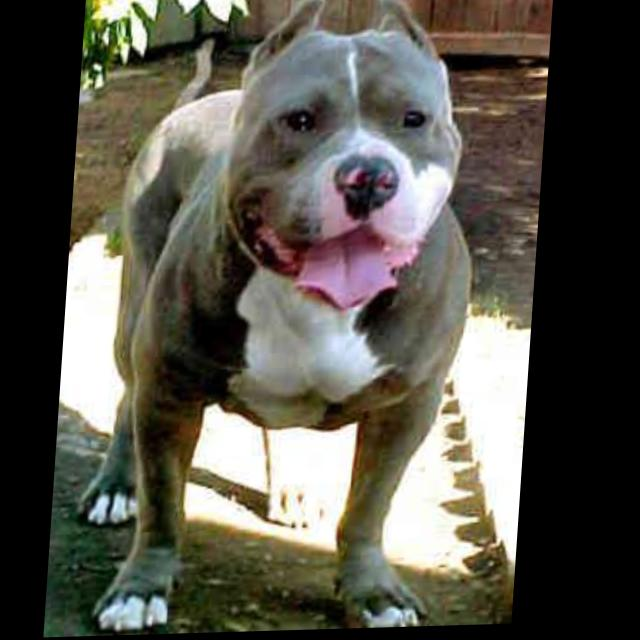amstaff: (77, 1, 493, 638)
